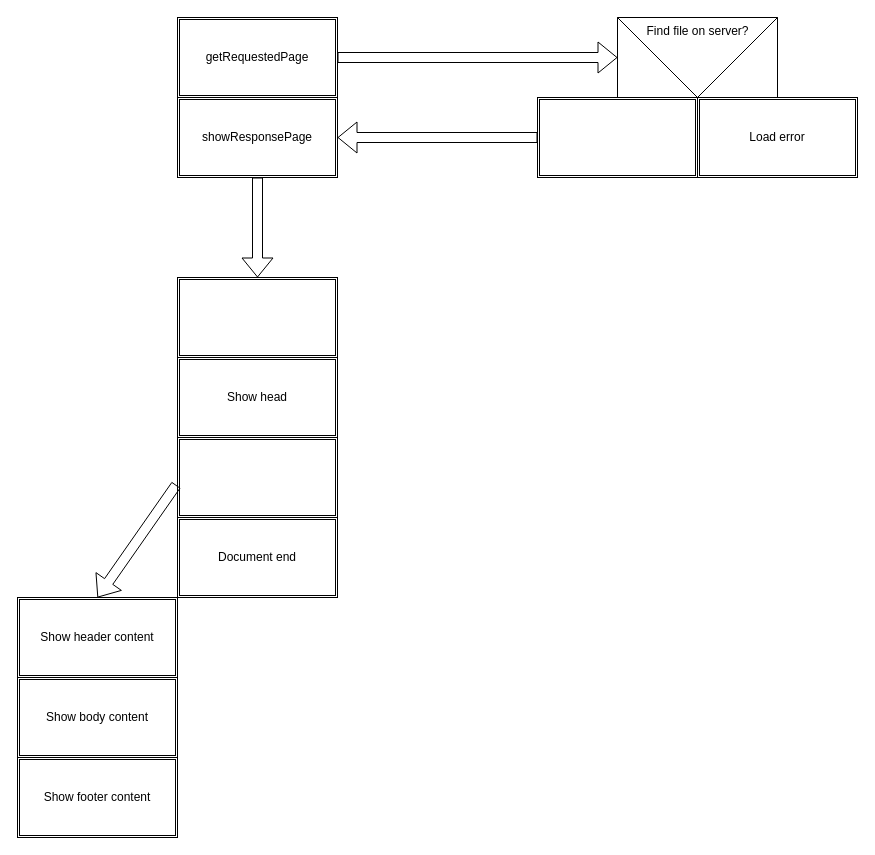
This 875x855 diagram has some shape labels left out. Each missing label, with the centre of its shape:
Document start: (257,317)
Load page: (617,137)
no: (737,57)
Show body: (257,477)
yes: (657,57)
